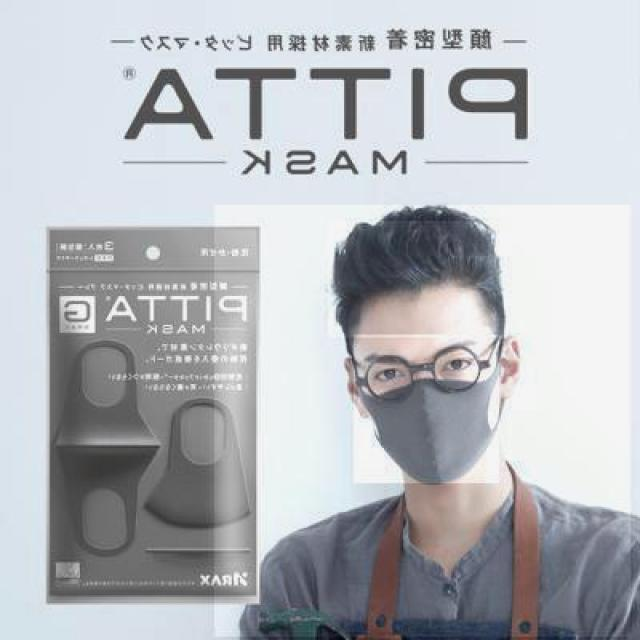face_mask: (354, 334, 499, 484)
glasses: (362, 338, 492, 404)
head_nohelmet: (328, 220, 507, 338)
person: (213, 205, 630, 638)
